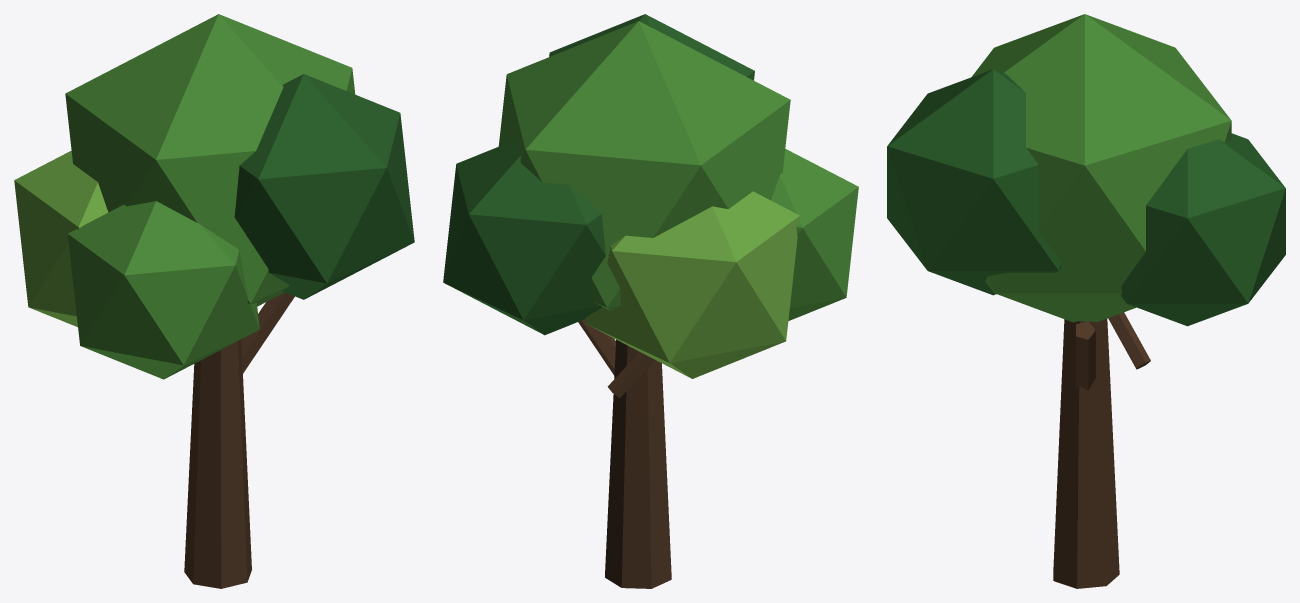
The model's file is SM_GZ_tree_oak_0.fbx.
3 renders of one model, left to right at view 1: azimuth 30°, elevation 25°; view 2: azimuth 150°, elevation 25°; view 3: azimuth 270°, elevation 25°, orthographic.
Parts seen in each view (by area): view 1: SM_GZ_tree_oak_0; view 2: SM_GZ_tree_oak_0; view 3: SM_GZ_tree_oak_0.
Boxes of the visible parts, <box> form: SM_GZ_tree_oak_0: <box>14,14,414,588</box>; SM_GZ_tree_oak_0: <box>443,14,858,588</box>; SM_GZ_tree_oak_0: <box>887,14,1285,588</box>.
Size of the model in its own units: 391 by 674 by 435.
